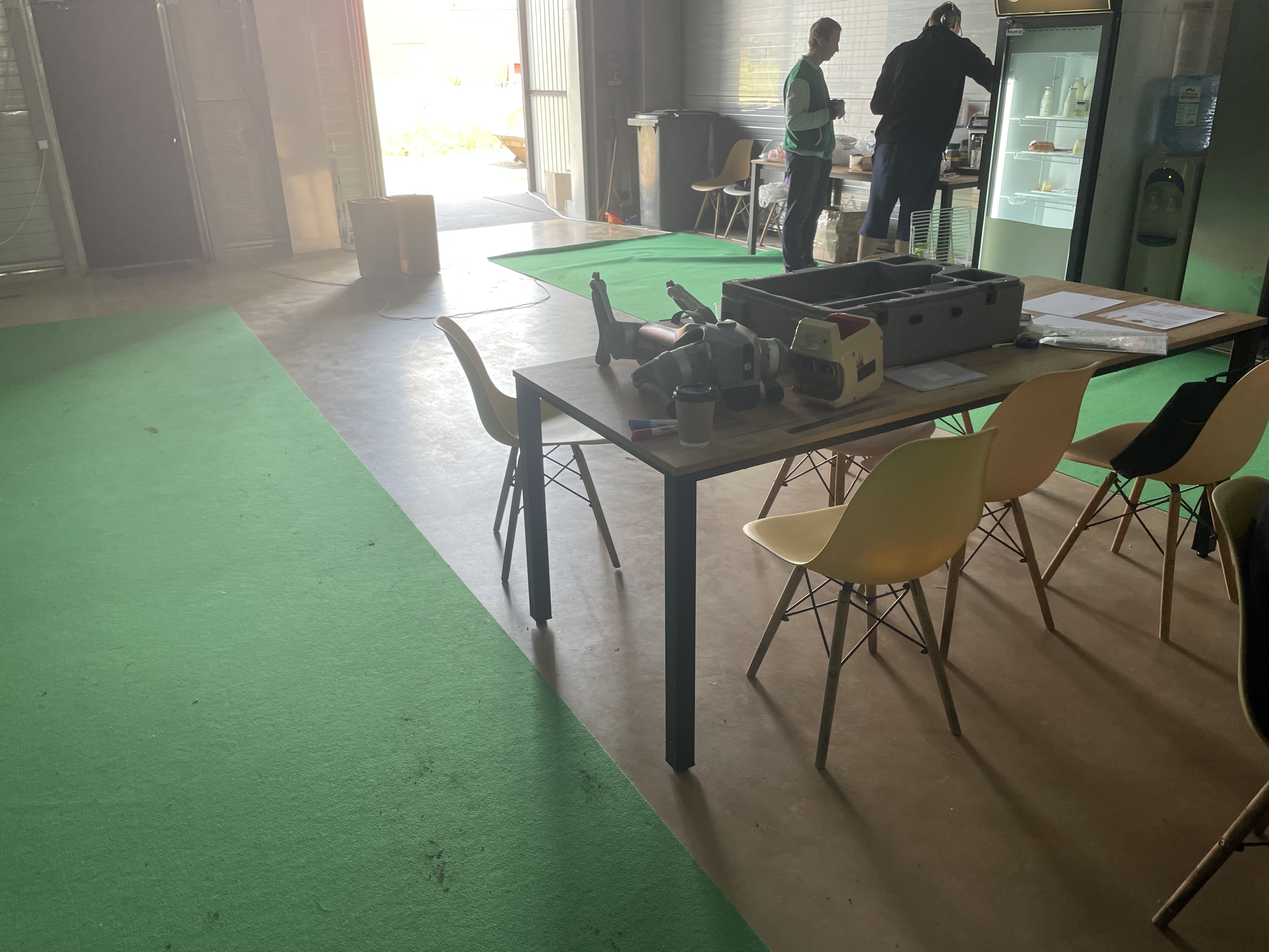cup: (672, 382, 719, 449)
